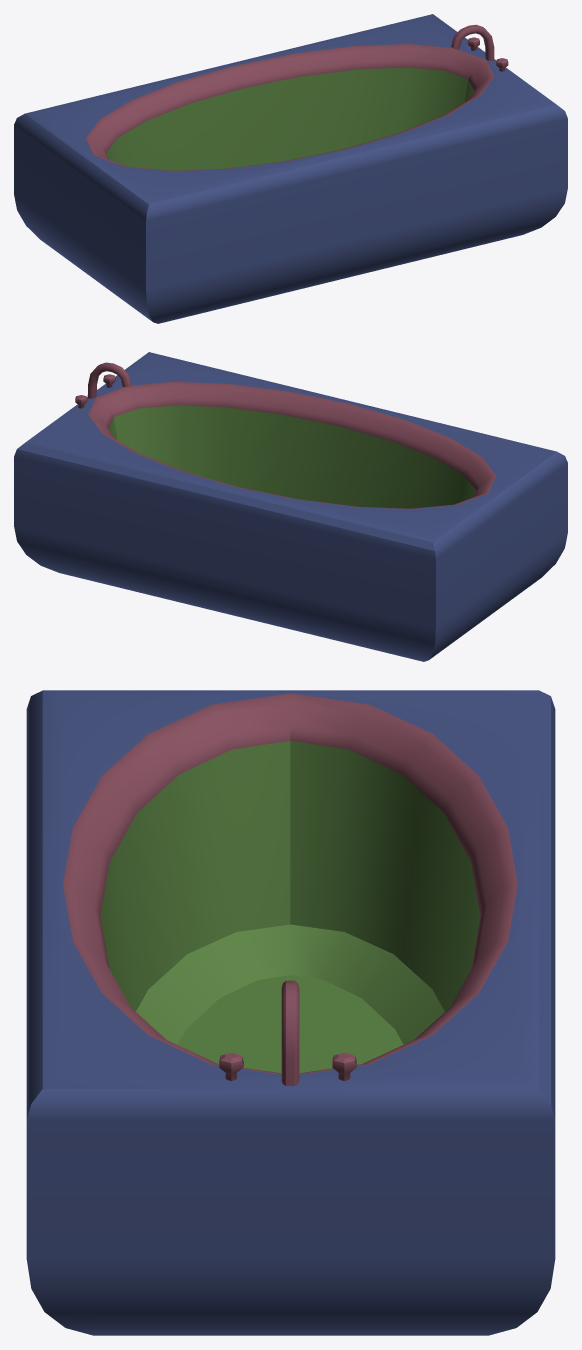
Rendered from bathtub.fbx.
3 views of the same model, one above another, from view 1: azimuth 30°, elevation 25°; view 2: azimuth 150°, elevation 25°; view 3: azimuth 270°, elevation 25° (orthographic). The views are drawn at different scales.
Parts seen in each view (by area): view 1: bathtub1; view 2: bathtub1; view 3: bathtub1.
Boxes of the visible parts, x1,y1,x2,y2 form: bathtub1: (14,14,567,323); bathtub1: (14,352,567,661); bathtub1: (26,690,555,1335).
Bounding box in the file's own units: 3.07 × 1.26 × 1.66.
